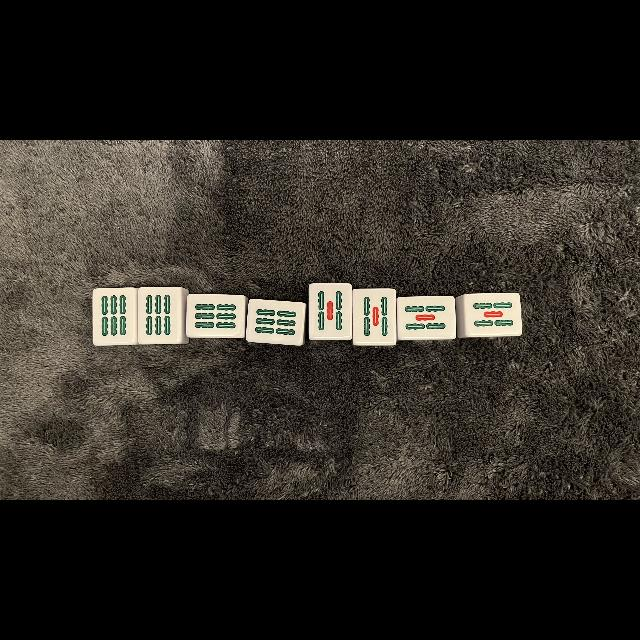b5: (354, 290, 396, 344), (466, 293, 520, 335), (398, 298, 454, 338), (311, 285, 351, 339)
b6: (92, 288, 136, 344), (186, 294, 244, 336), (248, 301, 302, 343), (139, 288, 179, 342)
